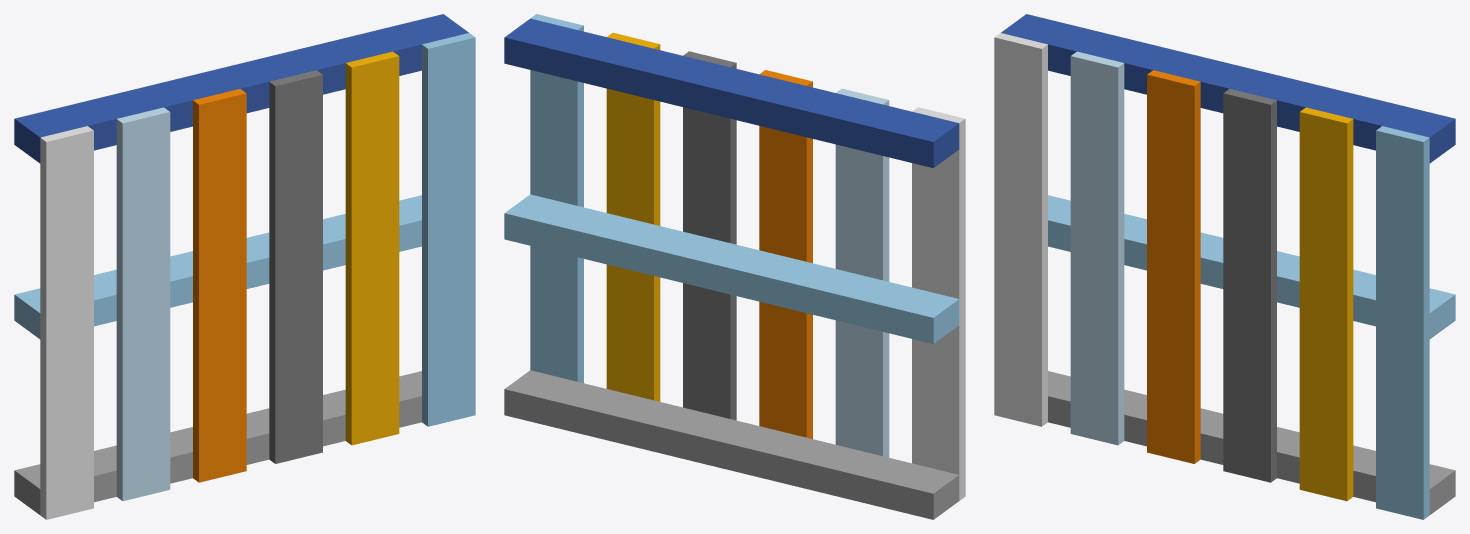
Rendered from pallet3.obj.
3 renders of one model, left to right at view 1: azimuth 30°, elevation 25°; view 2: azimuth 150°, elevation 25°; view 3: azimuth 330°, elevation 25°, orthographic.
Visible parts, largest first — view 1: mesh29, mesh11, mesh23, mesh5, mesh17, mesh35, mesh39, mesh42, mesh48, mesh36, mesh49, mesh43 (+9 smaller); view 2: mesh33, mesh3, mesh9, mesh27, mesh21, mesh15, mesh45, mesh51, mesh38, mesh42, mesh39, mesh48 (+9 smaller); view 3: mesh11, mesh29, mesh17, mesh23, mesh35, mesh5, mesh39, mesh42, mesh48, mesh36, mesh49, mesh43 (+9 smaller).
Boxes of the visible parts, box(x1,y1,x2,y2) form: mesh29: box(122, 112, 170, 501); mesh11: box(351, 56, 399, 445); mesh23: box(199, 93, 246, 482); mesh5: box(428, 37, 475, 426); mesh17: box(275, 74, 322, 463); mesh35: box(46, 130, 93, 519); mesh39: box(15, 14, 468, 137); mesh42: box(15, 195, 421, 312); mesh48: box(15, 371, 421, 488); mesh36: box(88, 44, 421, 150); mesh49: box(94, 396, 421, 502); mesh43: box(94, 220, 421, 326); mesh33: box(912, 150, 959, 474); mesh3: box(530, 70, 577, 381); mesh9: box(606, 88, 653, 400); mesh27: box(835, 144, 882, 456); mesh21: box(759, 126, 806, 437); mesh15: box(683, 107, 730, 418); mesh45: box(504, 213, 933, 343); mesh51: box(504, 389, 933, 519); mesh38: box(504, 37, 933, 168); mesh42: box(505, 194, 958, 317); mesh39: box(505, 18, 958, 141); mesh48: box(505, 370, 958, 493); mesh11: box(1299, 112, 1347, 501); mesh29: box(1070, 56, 1118, 445); mesh17: box(1223, 93, 1270, 482); mesh23: box(1147, 74, 1194, 463); mesh35: box(994, 37, 1041, 426); mesh5: box(1376, 130, 1423, 519); mesh39: box(1001, 14, 1454, 137); mesh42: box(1048, 195, 1454, 312); mesh48: box(1048, 371, 1454, 488); mesh36: box(1048, 44, 1381, 150); mesh49: box(1048, 396, 1375, 502); mesh43: box(1048, 220, 1375, 326).
Bounding box in the file's own units: 0.24 × 0.202 × 0.031.
